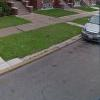Car: (72, 7, 99, 47)
